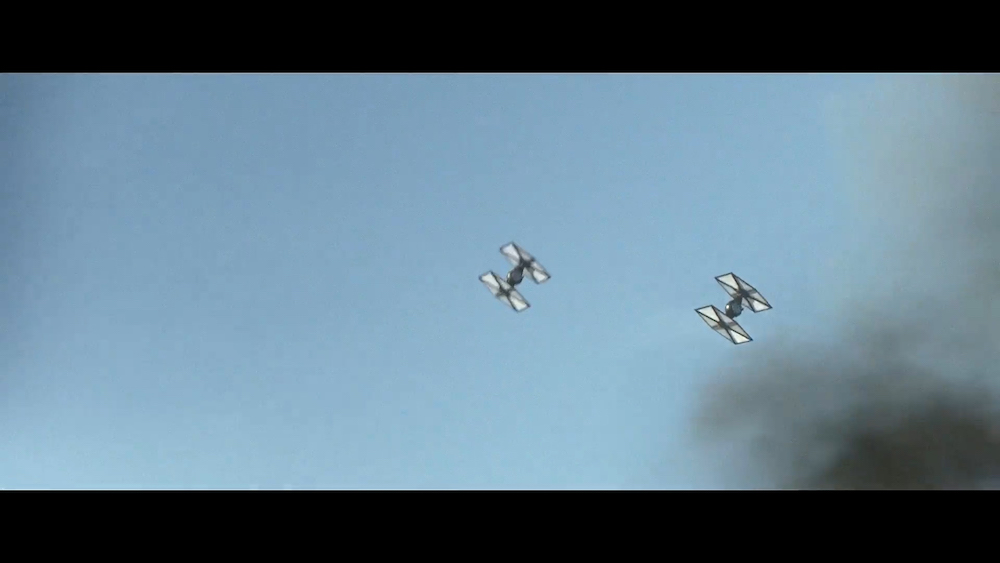Tie Fighter: (693, 271, 773, 346), (478, 241, 552, 314)
